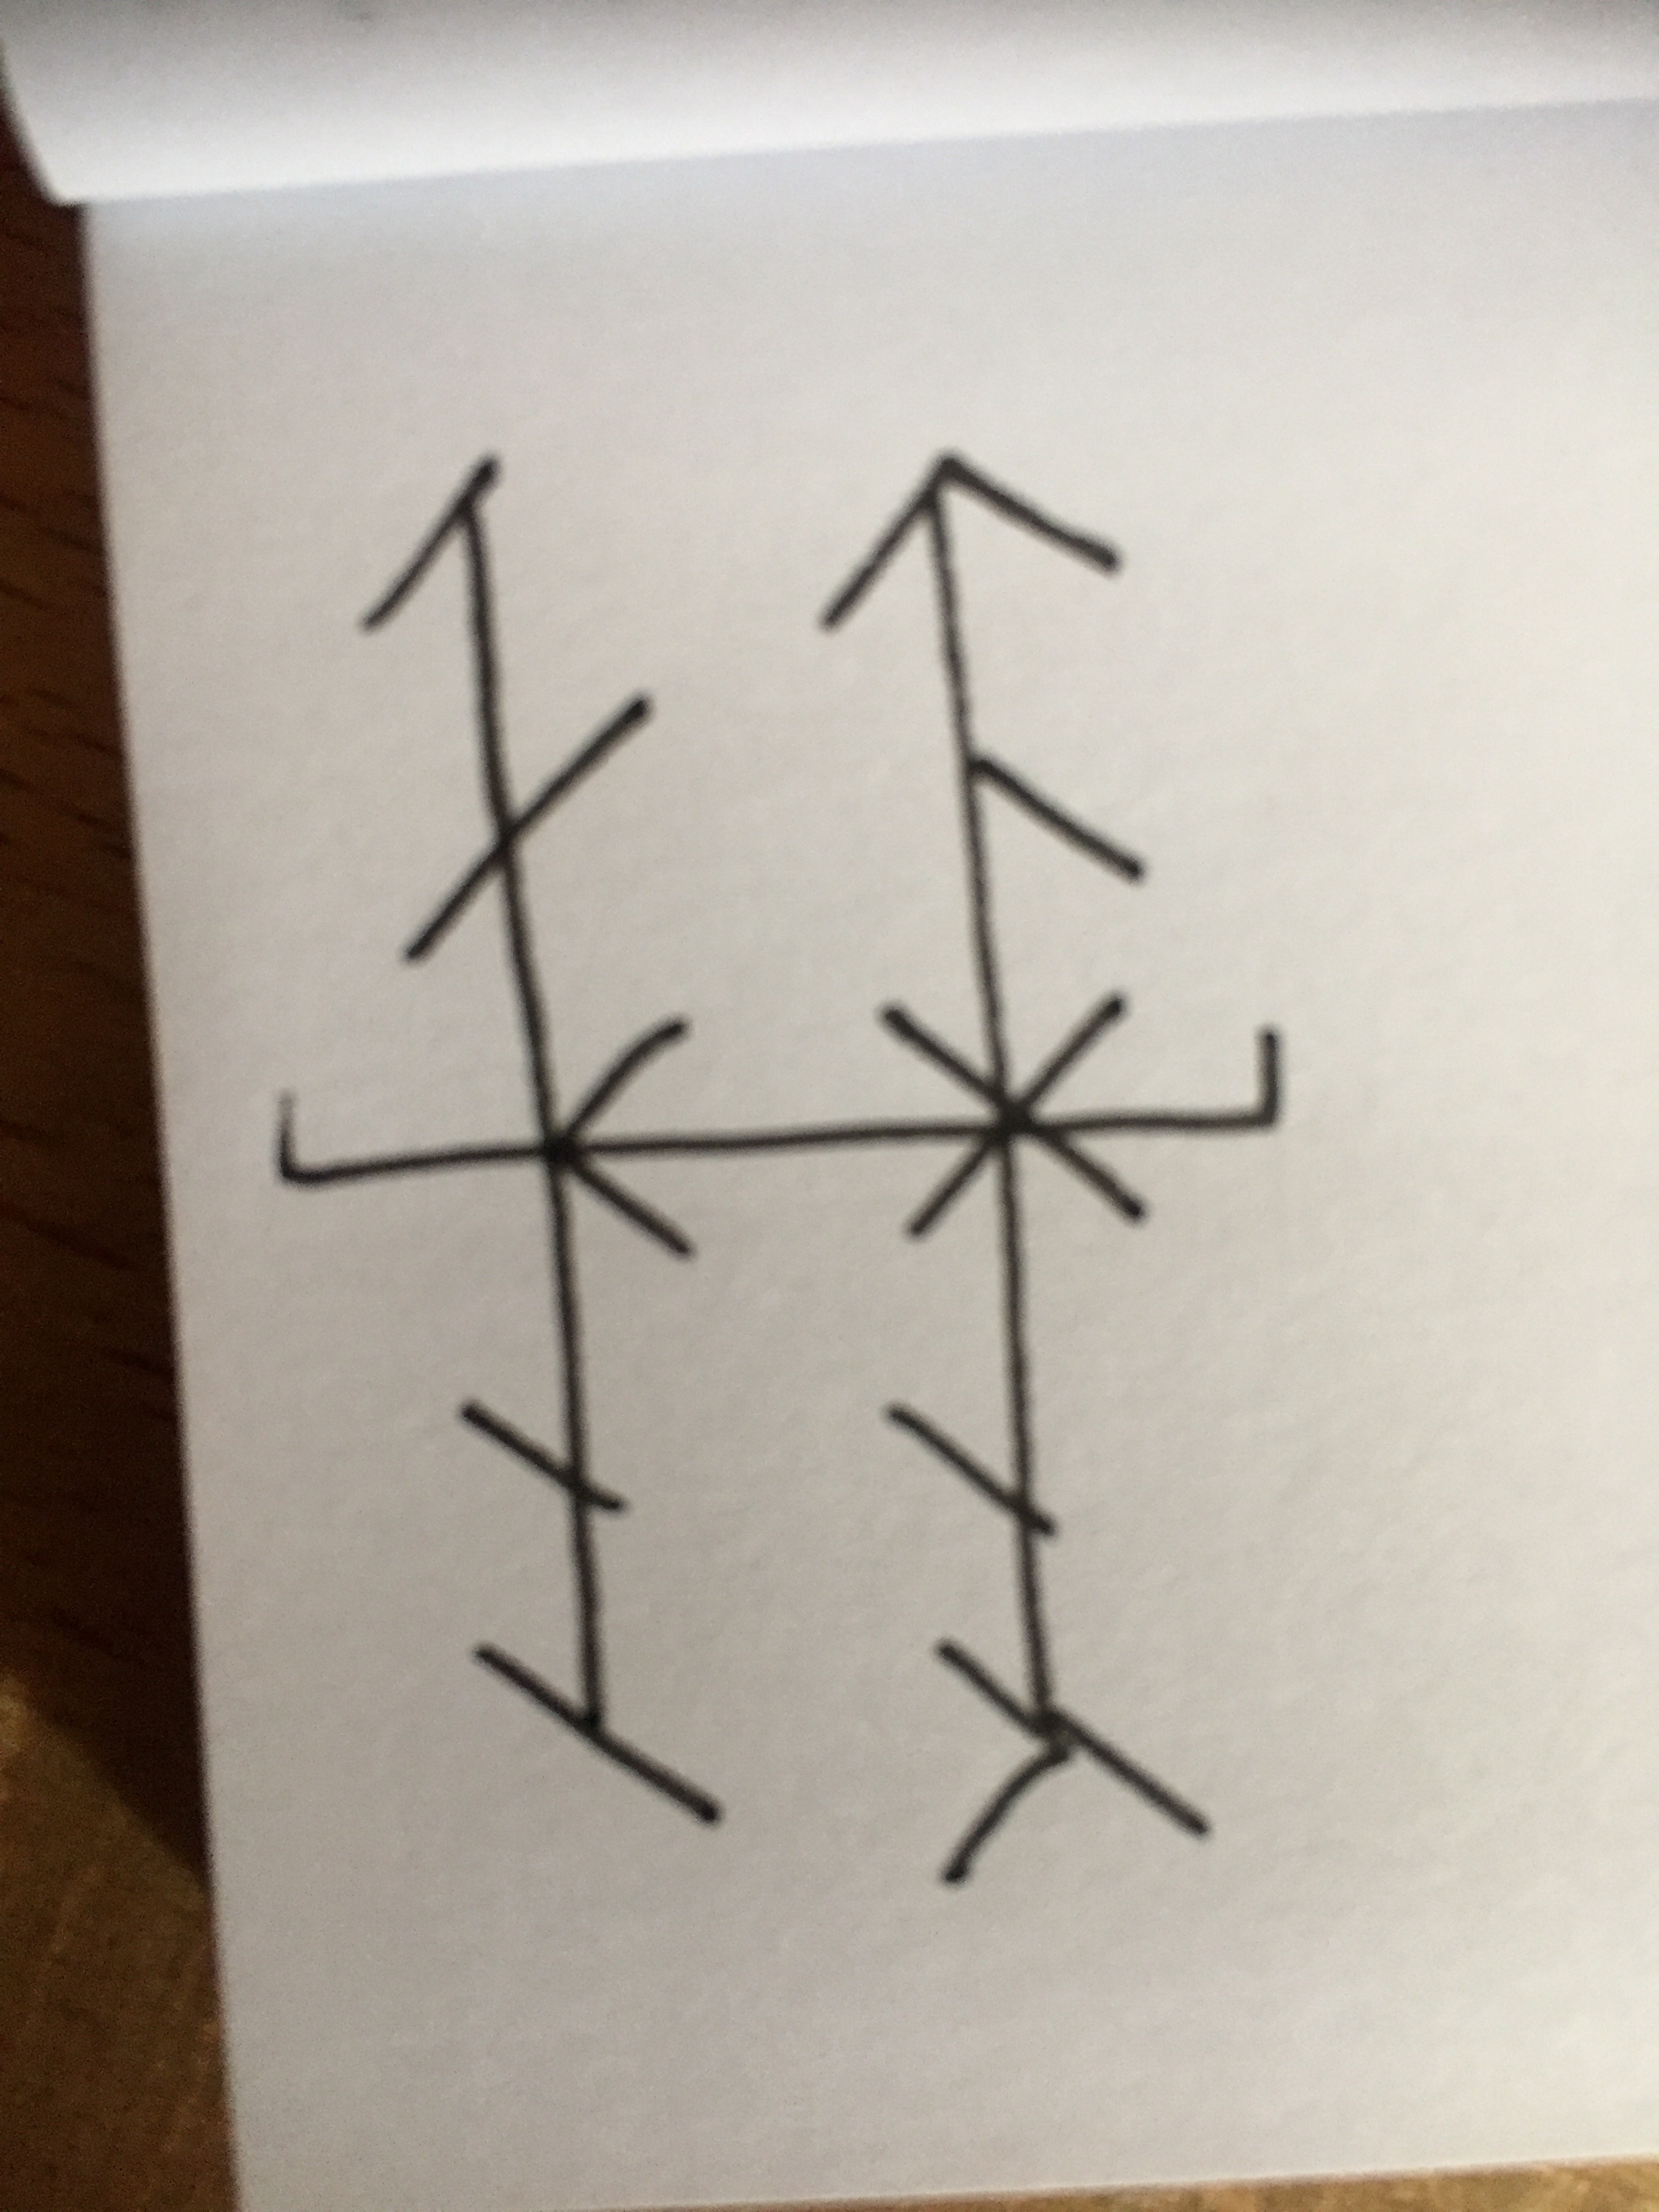Bar: (814, 446, 1213, 1893), (355, 449, 727, 1834)
Barcode: (275, 448, 1283, 1893)
End: (1107, 1024, 1283, 1137)
Start: (272, 1089, 528, 1193)
